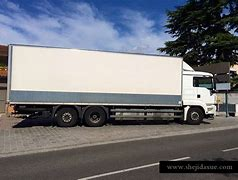bigtruck: (2, 38, 217, 129)
